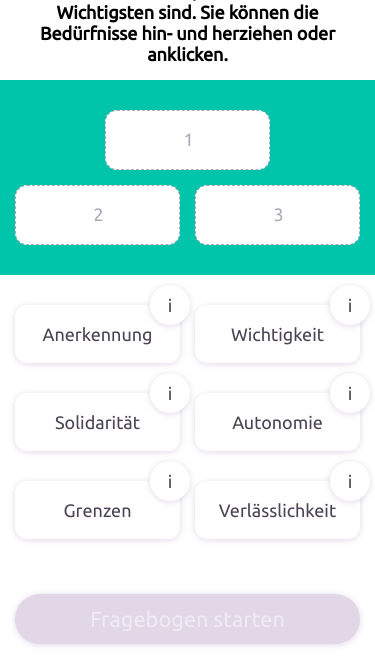
Scenario: Motives Entry › can open the info layer
(page scrolled)
Step 1. Click the 4th button "i" → (350, 393), box [330,373,370,413]
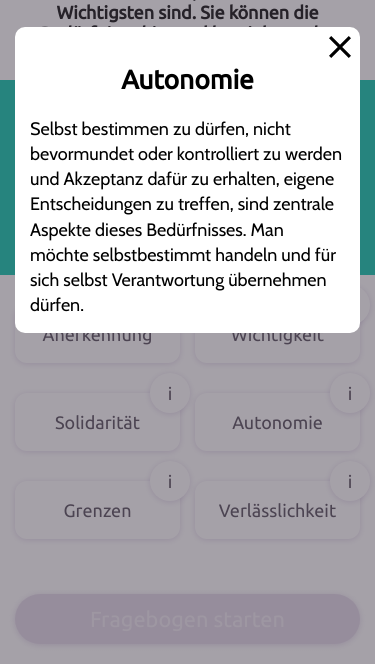
Now the text "Selbst bestimmen zu dürfen" is shown, box [30,118,342,316]
